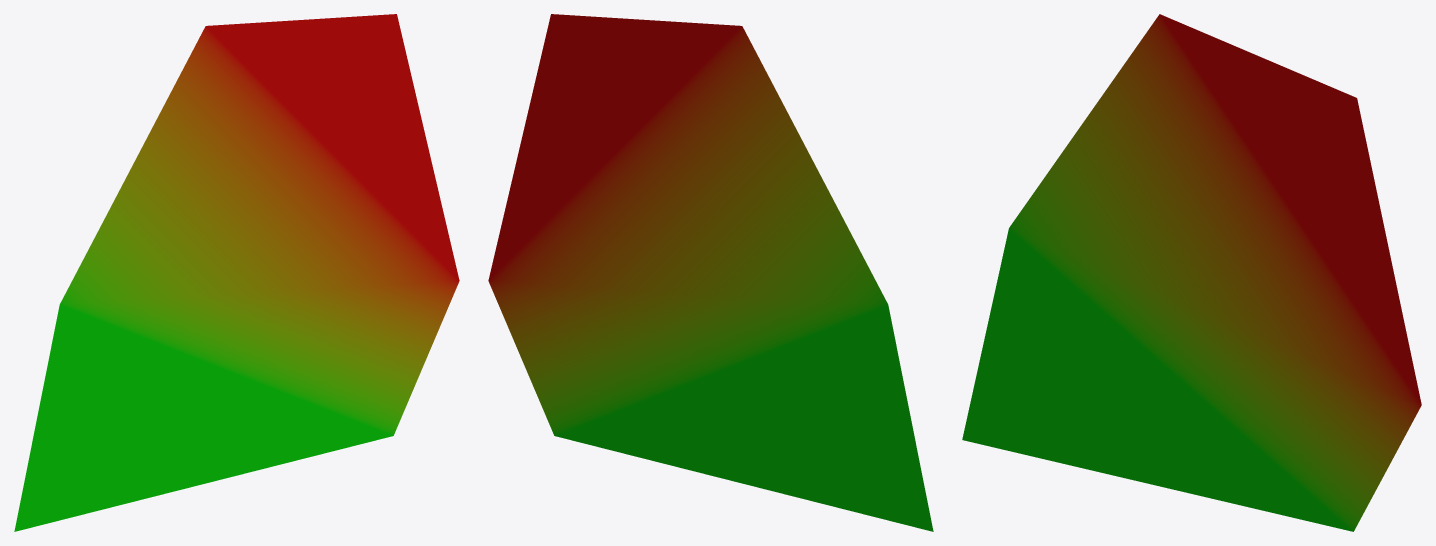
File: Thatching Grass_LOD4_Var7_uddmcgbia.fbx
The picture shows the model from 3 angles, left to right: view 1: azimuth 30°, elevation 25°; view 2: azimuth 150°, elevation 25°; view 3: azimuth 330°, elevation 25°; orthographic projection. The views are drawn at different scales.
Parts seen in each view (by area): view 1: _f6a9_Var7_LOD4; view 2: _f6a9_Var7_LOD4; view 3: _f6a9_Var7_LOD4.
Boxes of the visible parts, x1=… form: _f6a9_Var7_LOD4: x1=14, y1=14, x2=459, y2=531; _f6a9_Var7_LOD4: x1=488, y1=14, x2=933, y2=531; _f6a9_Var7_LOD4: x1=962, y1=14, x2=1421, y2=531.
Bounding box in the file's own units: 24.83 × 24.48 × 1.55e-06.
